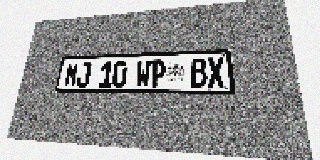0: (112, 61, 127, 87)
1: (98, 61, 114, 87)
B: (191, 58, 207, 87)
J: (76, 62, 92, 87)
M: (64, 62, 79, 87)
P: (150, 59, 166, 87)
W: (135, 60, 151, 87)
X: (207, 57, 225, 87)
